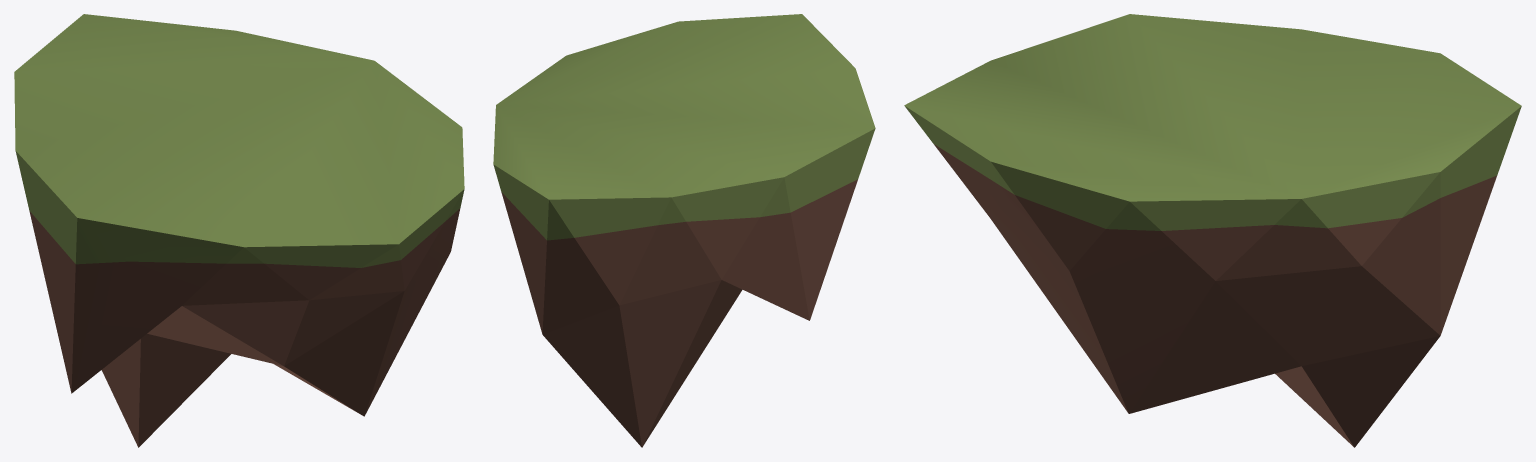
Rendered from lvl1-2ndoEscalon.fbx.
3 views of the same model, side by side, from view 1: azimuth 30°, elevation 25°; view 2: azimuth 150°, elevation 25°; view 3: azimuth 270°, elevation 25° (orthographic). The views are drawn at different scales.
Parts seen in each view (by area): view 1: Icosphere.001; view 2: Icosphere.001; view 3: Icosphere.001.
Boxes of the visible parts, x1,y1,x2,y2 form: Icosphere.001: (14, 14, 464, 447); Icosphere.001: (493, 14, 875, 447); Icosphere.001: (904, 14, 1521, 447).
Bounding box in the file's own units: 2910 × 2633 × 4126.
